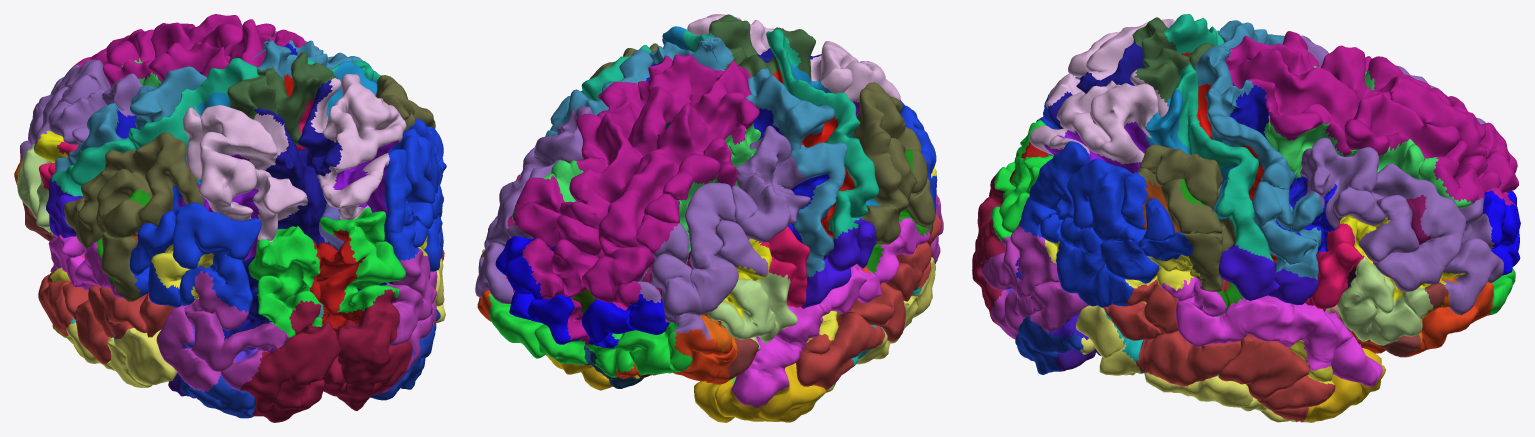
File: cortex-destrieux.glb
3 views of the same model, side by side, from view 1: azimuth 30°, elevation 25°; view 2: azimuth 150°, elevation 25°; view 3: azimuth 270°, elevation 25° (orthographic). The views are drawn at different scales.
Parts seen in each view (by area): view 1: destrieux:left:26, destrieux:left:27, destrieux:left:25, destrieux:left:19, destrieux:right:27, destrieux:right:25, destrieux:left:43, destrieux:right:43, destrieux:left:38, destrieux:left:15, destrieux:left:20, destrieux:left:16 (+29 smaller); view 2: destrieux:right:16, destrieux:left:16, destrieux:left:15, destrieux:left:26, destrieux:left:29, destrieux:left:34, destrieux:left:38, destrieux:left:28, destrieux:right:15, destrieux:left:14, destrieux:left:44, destrieux:right:5 (+25 smaller); view 3: destrieux:right:15, destrieux:right:25, destrieux:right:16, destrieux:right:38, destrieux:right:34, destrieux:right:29, destrieux:left:16, destrieux:right:26, destrieux:right:27, destrieux:right:19, destrieux:right:28, destrieux:right:14 (+31 smaller).
Part boxes in pixels (box(x1,y1,x2,y2)): destrieux:left:26: box(63, 132, 204, 301); destrieux:left:27: box(183, 105, 307, 241); destrieux:left:25: box(129, 185, 261, 312); destrieux:left:19: box(156, 271, 293, 392); destrieux:right:27: box(310, 74, 406, 219); destrieux:right:25: box(384, 118, 446, 271); destrieux:left:43: box(239, 300, 340, 422); destrieux:right:43: box(323, 289, 412, 410); destrieux:left:38: box(38, 269, 174, 364); destrieux:left:15: box(20, 59, 142, 161); destrieux:left:20: box(248, 226, 322, 337); destrieux:left:16: box(76, 22, 230, 86); destrieux:right:16: box(512, 54, 724, 344); destrieux:left:16: box(581, 61, 759, 345); destrieux:left:15: box(632, 125, 810, 340); destrieux:left:26: box(852, 82, 935, 244); destrieux:left:29: box(745, 68, 847, 277); destrieux:left:34: box(731, 218, 930, 407); destrieux:left:38: box(795, 215, 941, 390); destrieux:left:28: box(766, 29, 878, 246); destrieux:right:15: box(475, 105, 593, 303); destrieux:left:14: box(707, 271, 797, 351); destrieux:left:44: box(694, 363, 825, 422); destrieux:right:5: box(495, 236, 582, 344); destrieux:right:15: box(1300, 137, 1503, 315); destrieux:right:25: box(1019, 141, 1193, 307); destrieux:right:16: box(1229, 49, 1515, 205); destrieux:right:38: box(1103, 279, 1335, 422); destrieux:right:34: box(1160, 277, 1382, 386); destrieux:right:29: box(1195, 45, 1323, 279); destrieux:left:16: box(1225, 31, 1518, 199); destrieux:right:26: box(1137, 144, 1236, 291); destrieux:right:27: box(1030, 69, 1168, 164); destrieux:right:19: box(981, 223, 1088, 339); destrieux:right:28: box(1174, 63, 1273, 261); destrieux:right:14: box(1336, 257, 1433, 345).
Bounding box in the file's own units: 0.1311 × 0.1212 × 0.1746.
